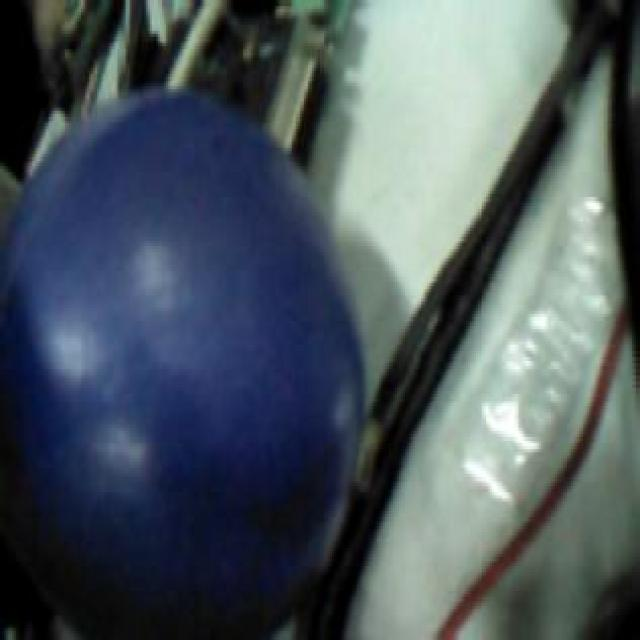BallPurple: (0, 87, 365, 640)
